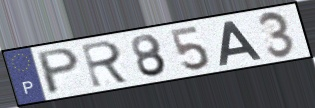3: (258, 9, 297, 61)
5: (167, 23, 212, 72)
8: (130, 33, 169, 80)
A: (217, 19, 264, 67)
P: (36, 46, 82, 97)
R: (79, 39, 133, 90)
